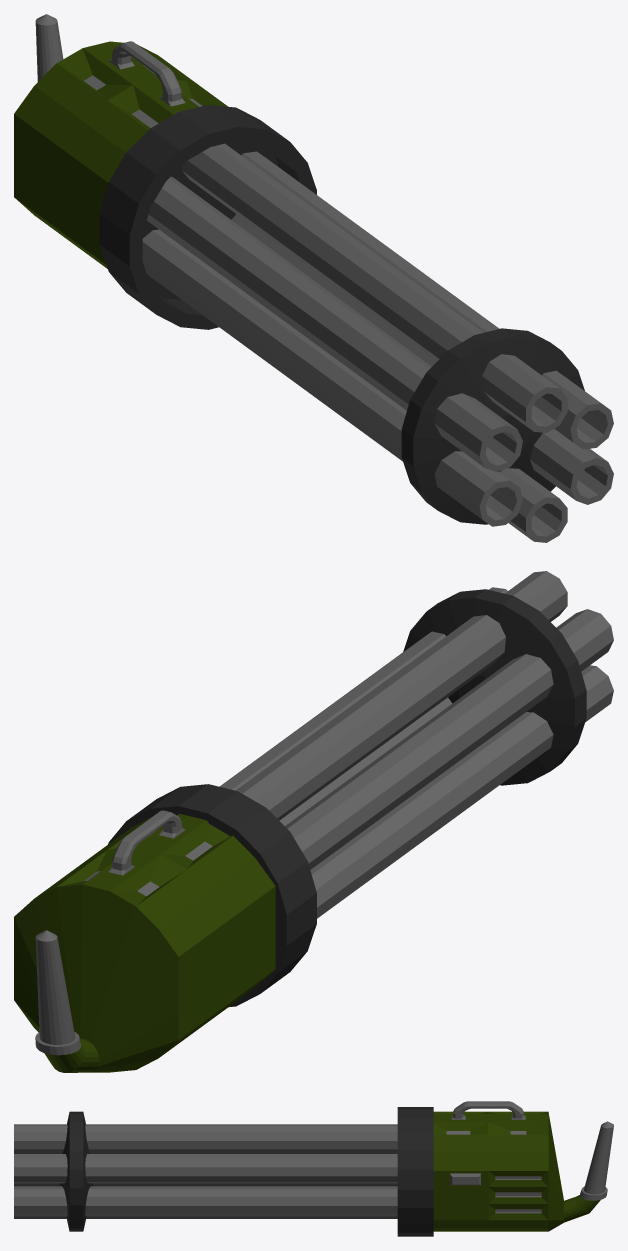
Rendered from Minigun.fbx.
3 views of the same model, one above another, from view 1: azimuth 30°, elevation 25°; view 2: azimuth 150°, elevation 25°; view 3: azimuth 270°, elevation 25° (orthographic). The views are drawn at different scales.
Visible parts, largest first — view 1: Rotator, Minigun; view 2: Rotator, Minigun; view 3: Rotator, Minigun.
Boxes of the visible parts, left/top/right/bottom form: Rotator: left=99, top=105, right=613, bottom=542; Minigun: left=14, top=14, right=227, bottom=268; Rotator: left=108, top=571, right=613, bottom=1006; Minigun: left=14, top=810, right=275, bottom=1072; Rotator: left=14, top=1107, right=433, bottom=1236; Minigun: left=433, top=1101, right=613, bottom=1231.
Bounding box in the file's own units: 0.3847 × 0.4214 × 1.8.
